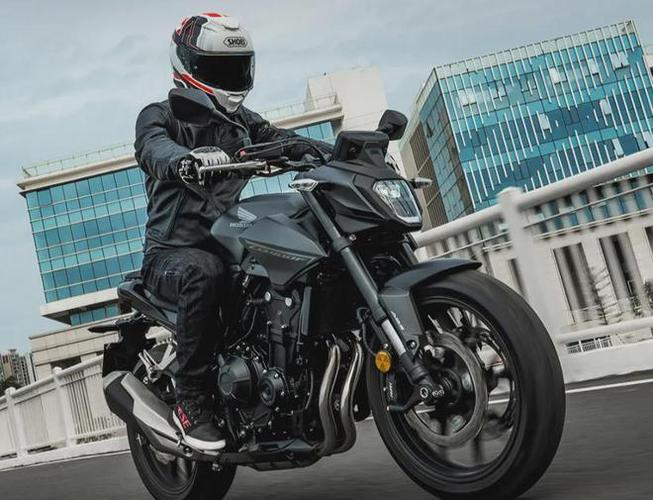摩托车: (116, 112, 476, 499)
